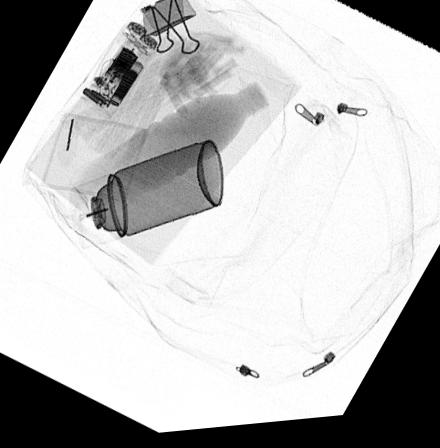Sprayer: (67, 143, 225, 252)
